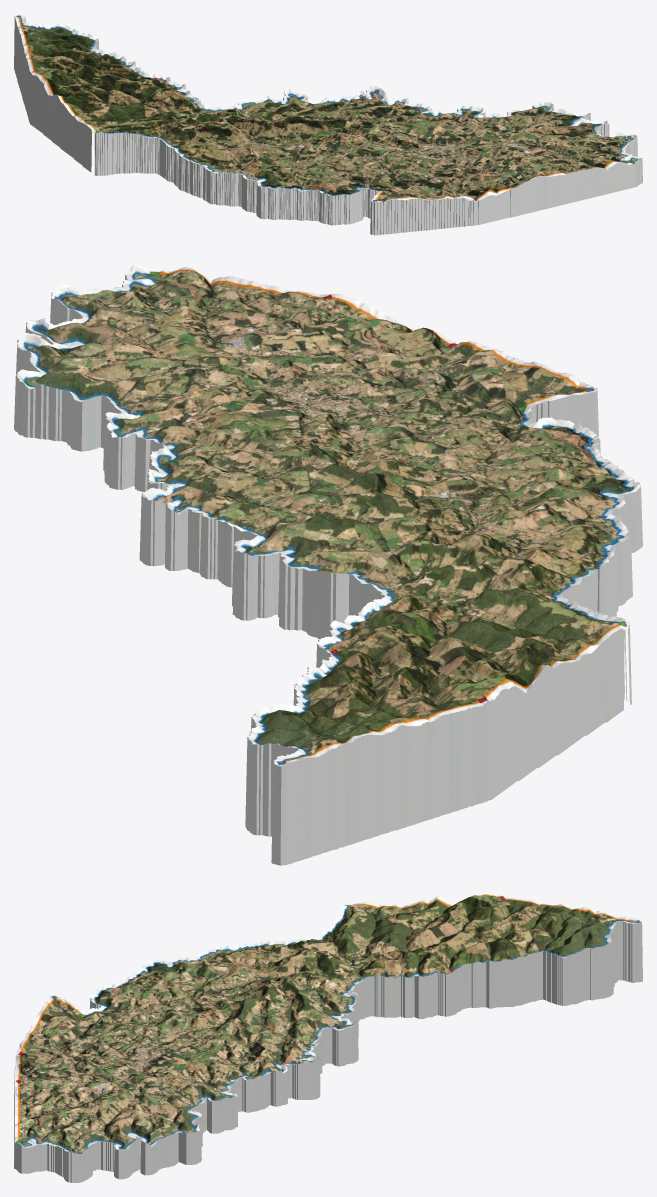
The picture shows the model from 3 angles, top to bottom: view 1: azimuth 30°, elevation 25°; view 2: azimuth 150°, elevation 25°; view 3: azimuth 270°, elevation 25°; orthographic projection. The views are drawn at different scales.
Bounding box in the file's own units: 0.9998 × 0.1228 × 1.15.
Materials: 1 (1 with a texture image).
